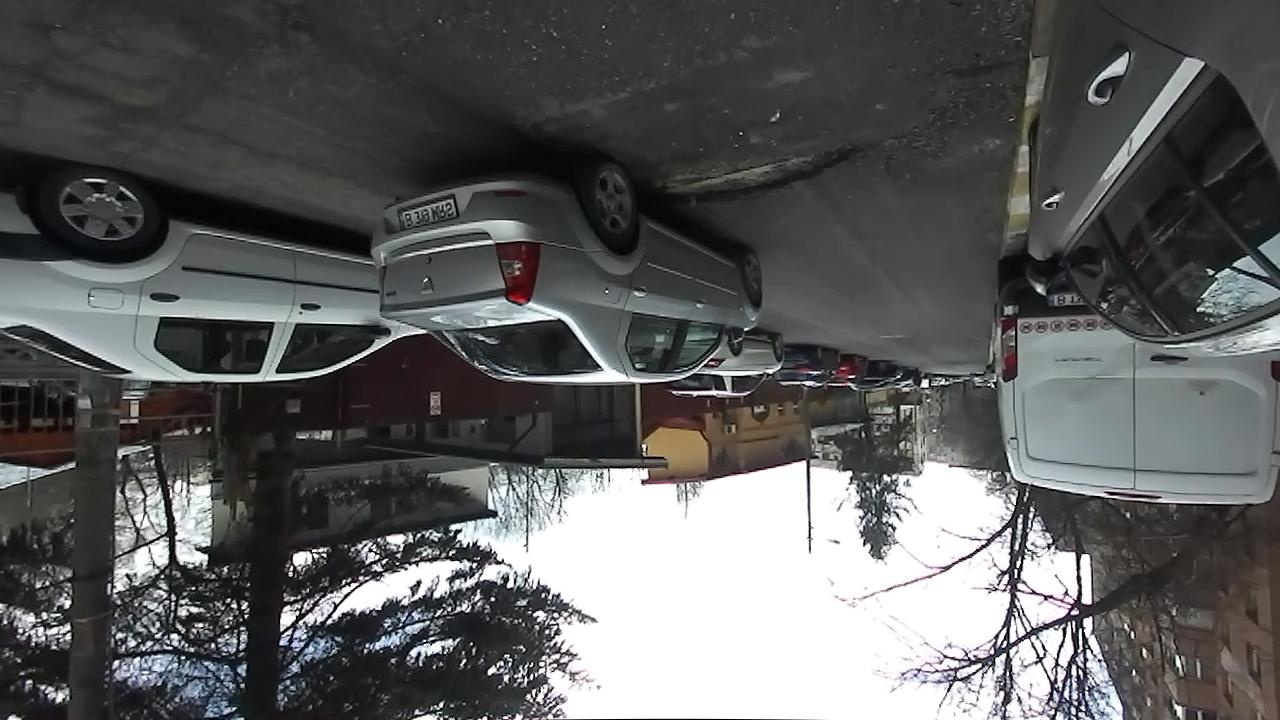pothole: (649, 136, 869, 206)
